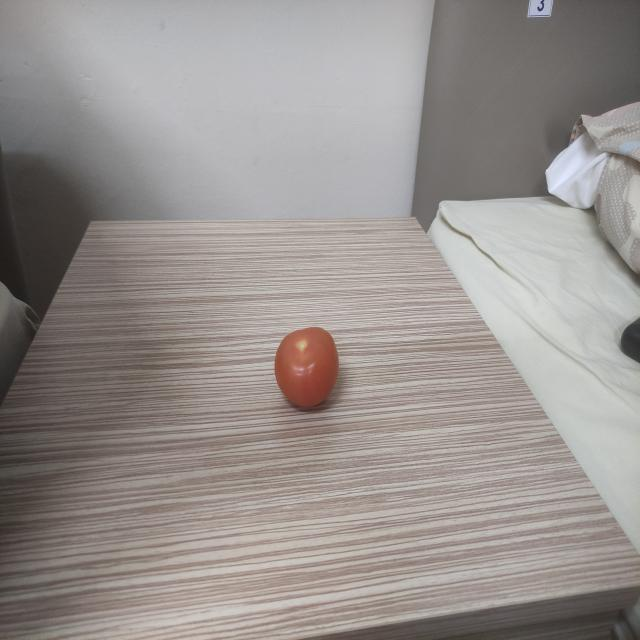sari: (267, 308, 346, 418)
